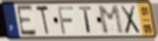E: (15, 5, 38, 38)
F: (56, 6, 75, 36)
M: (96, 4, 126, 36)
T: (35, 5, 50, 37), (78, 6, 94, 35)
X: (119, 5, 141, 36)
